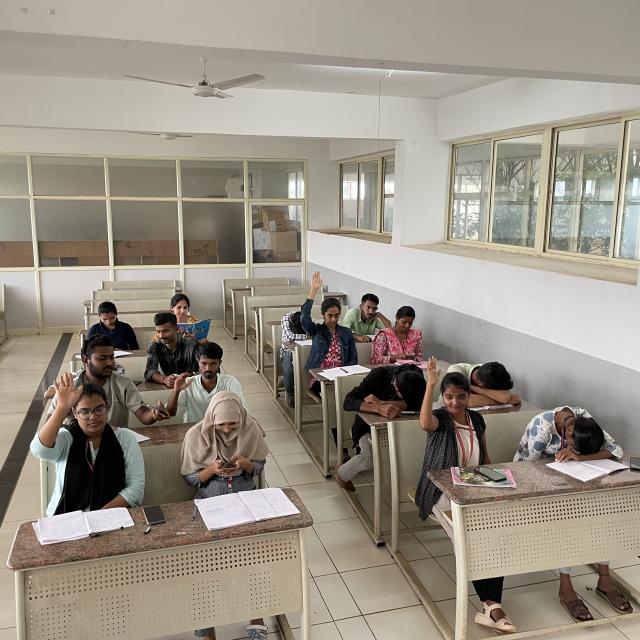Hand Rising: (27, 369, 146, 520), (415, 356, 494, 472), (299, 269, 357, 368)
Reading: (346, 288, 391, 344), (165, 292, 212, 340)
Sleeping: (516, 402, 627, 472), (342, 362, 428, 418), (450, 355, 526, 404), (276, 306, 316, 352)
Using Phone: (174, 389, 274, 499), (79, 332, 171, 421), (374, 306, 436, 367), (84, 301, 140, 353)
